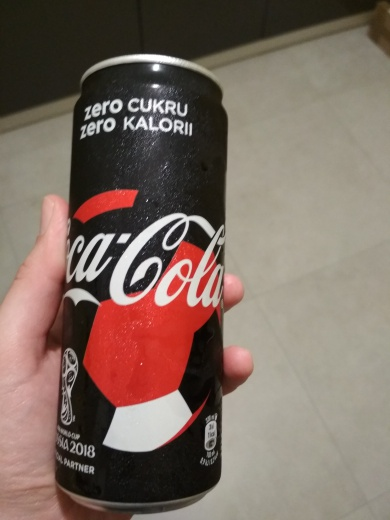colazero: (54, 50, 224, 515)
